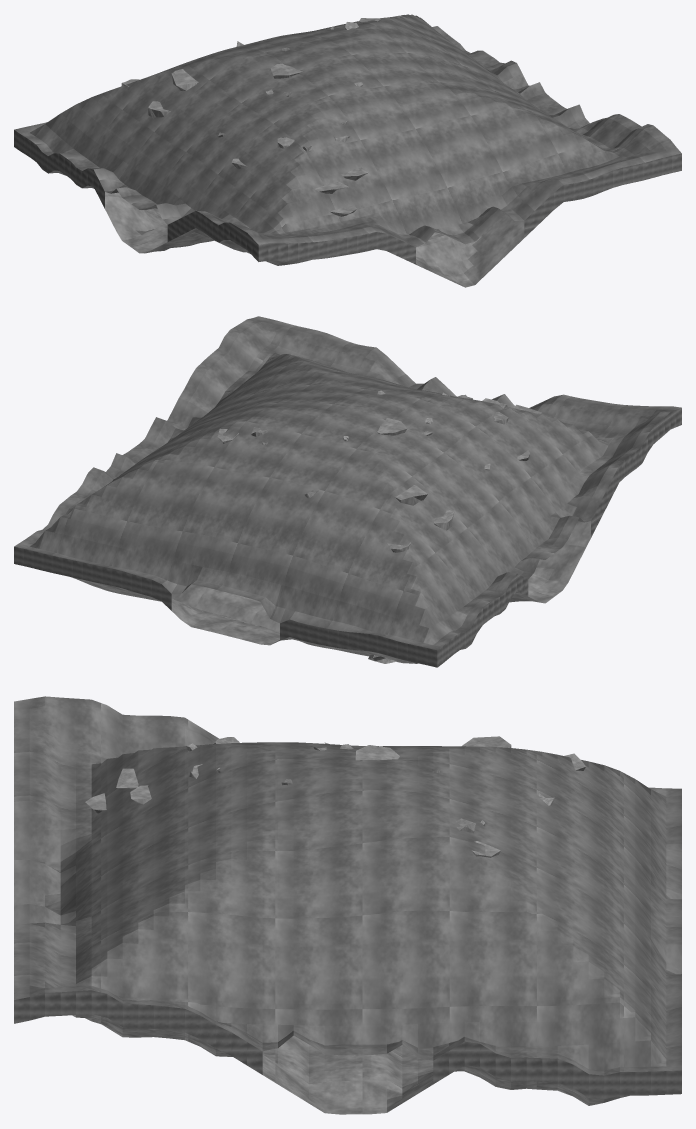
3 renders of one model, top to bottom at view 1: azimuth 30°, elevation 25°; view 2: azimuth 150°, elevation 25°; view 3: azimuth 270°, elevation 25°, orthographic. The views are drawn at different scales.
Visible parts, largest first — view 1: CavernVault, CavernWalls, CavernFloor, CavernStalactites, CavernColumns; view 2: CavernVault, CavernWalls, CavernFloor, CavernStalactites, CavernColumns; view 3: CavernVault, CavernWalls, CavernFloor, CavernStalactites.
Part boxes in pixels (bbox=[...]): CavernVault: bbox=[14, 14, 681, 247]; CavernWalls: bbox=[14, 130, 681, 264]; CavernFloor: bbox=[48, 170, 524, 287]; CavernStalactites: bbox=[121, 18, 382, 216]; CavernColumns: bbox=[148, 22, 358, 148]; CavernVault: bbox=[14, 316, 681, 650]; CavernWalls: bbox=[14, 407, 681, 667]; CavernFloor: bbox=[71, 521, 590, 663]; CavernStalactites: bbox=[217, 390, 541, 552]; CavernColumns: bbox=[251, 394, 508, 530]; CavernVault: bbox=[14, 696, 681, 1075]; CavernWalls: bbox=[14, 990, 681, 1099]; CavernFloor: bbox=[72, 1014, 629, 1114]; CavernStalactites: bbox=[85, 736, 585, 857].
Size of the model in its own units: 92 by 34.55 by 92.
5 materials, 5 textured.
